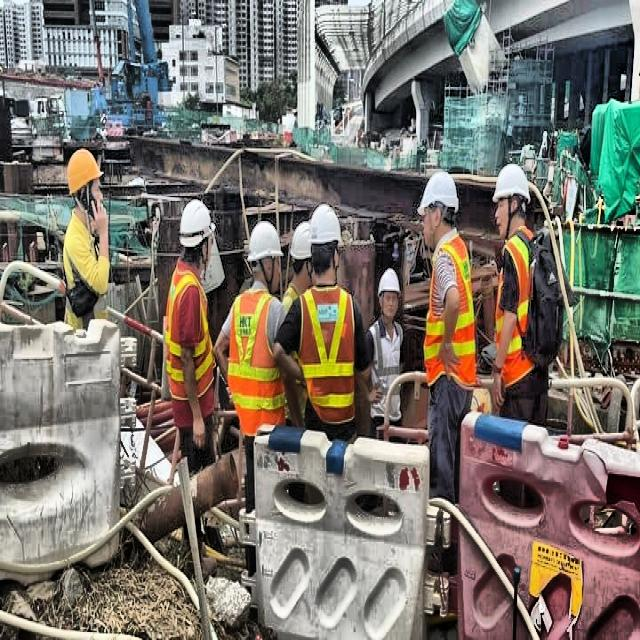safety_helmet: (65, 145, 107, 201), (420, 169, 461, 225), (176, 195, 216, 248), (311, 199, 345, 254), (251, 214, 283, 269), (492, 153, 525, 202), (376, 261, 401, 303), (292, 216, 312, 263)
safety_jacket: (226, 286, 289, 441), (162, 262, 218, 433), (422, 232, 479, 394), (297, 283, 359, 431), (498, 231, 543, 395), (66, 217, 104, 323), (370, 318, 408, 422)
